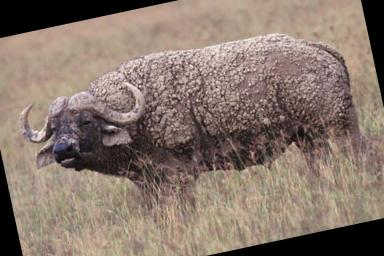Buffalo: (10, 0, 365, 236)
